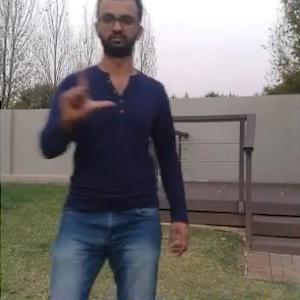land_hand: (56, 51, 117, 131)
